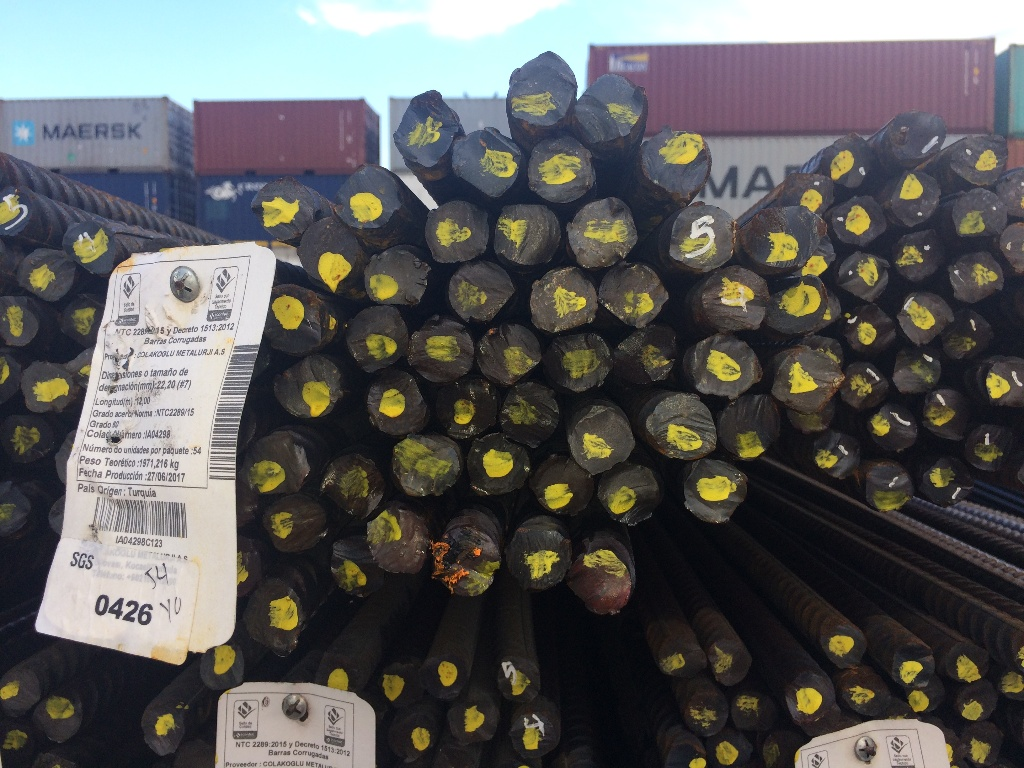dipstick: (575, 71, 648, 150), (506, 49, 578, 129), (434, 523, 506, 602), (260, 284, 339, 356), (392, 89, 461, 169), (449, 126, 522, 200), (740, 206, 828, 267), (643, 390, 717, 462), (770, 344, 846, 414), (566, 195, 638, 268), (639, 127, 712, 199), (527, 133, 597, 206), (598, 260, 670, 329), (569, 404, 637, 476), (668, 200, 736, 272), (272, 353, 346, 419), (317, 450, 385, 521), (692, 332, 765, 398), (568, 549, 635, 620), (389, 433, 463, 497), (242, 577, 303, 654), (701, 264, 770, 332), (505, 523, 570, 595), (406, 317, 475, 384), (528, 266, 598, 332), (365, 508, 430, 578), (717, 394, 781, 462), (346, 303, 409, 372), (298, 214, 360, 284), (596, 462, 661, 528), (682, 461, 748, 526), (474, 324, 543, 386), (466, 431, 531, 496), (364, 372, 428, 438), (337, 166, 403, 230), (243, 433, 310, 496), (448, 260, 515, 323), (494, 203, 561, 266), (501, 380, 561, 450), (252, 175, 315, 241), (423, 199, 490, 261), (544, 333, 612, 393), (362, 247, 429, 307), (262, 495, 327, 556), (531, 456, 595, 517), (435, 378, 498, 439), (614, 327, 677, 387), (946, 130, 1010, 189), (331, 535, 388, 599), (767, 276, 828, 335), (15, 245, 77, 302), (20, 360, 76, 417), (781, 668, 836, 726), (887, 110, 948, 162), (949, 250, 1005, 305), (949, 187, 1009, 238), (830, 193, 891, 243), (62, 221, 118, 275), (898, 290, 954, 344), (823, 131, 876, 188), (940, 307, 997, 360), (918, 455, 975, 508), (1, 413, 56, 467), (890, 169, 943, 224), (843, 302, 899, 354), (59, 292, 109, 350), (448, 689, 499, 745), (387, 709, 439, 763), (810, 428, 862, 481), (863, 459, 915, 512), (139, 702, 190, 756), (312, 651, 363, 703), (867, 401, 918, 453), (894, 227, 940, 284), (839, 360, 890, 411), (965, 423, 1013, 477), (838, 251, 889, 301), (923, 390, 973, 441), (781, 170, 836, 216), (31, 695, 82, 744), (197, 640, 245, 691), (421, 653, 469, 704), (507, 713, 559, 760), (682, 686, 728, 739), (840, 671, 891, 718), (378, 657, 426, 706), (892, 350, 942, 397), (656, 634, 707, 680), (1, 666, 46, 717), (706, 638, 753, 686), (890, 640, 935, 688), (984, 358, 1024, 411), (785, 395, 838, 435), (495, 655, 540, 702), (1, 302, 46, 348), (820, 623, 866, 667), (703, 728, 753, 767), (945, 641, 991, 682), (794, 236, 836, 278), (732, 691, 774, 733), (905, 671, 946, 714), (955, 681, 999, 720), (762, 730, 807, 768), (665, 733, 708, 768)
